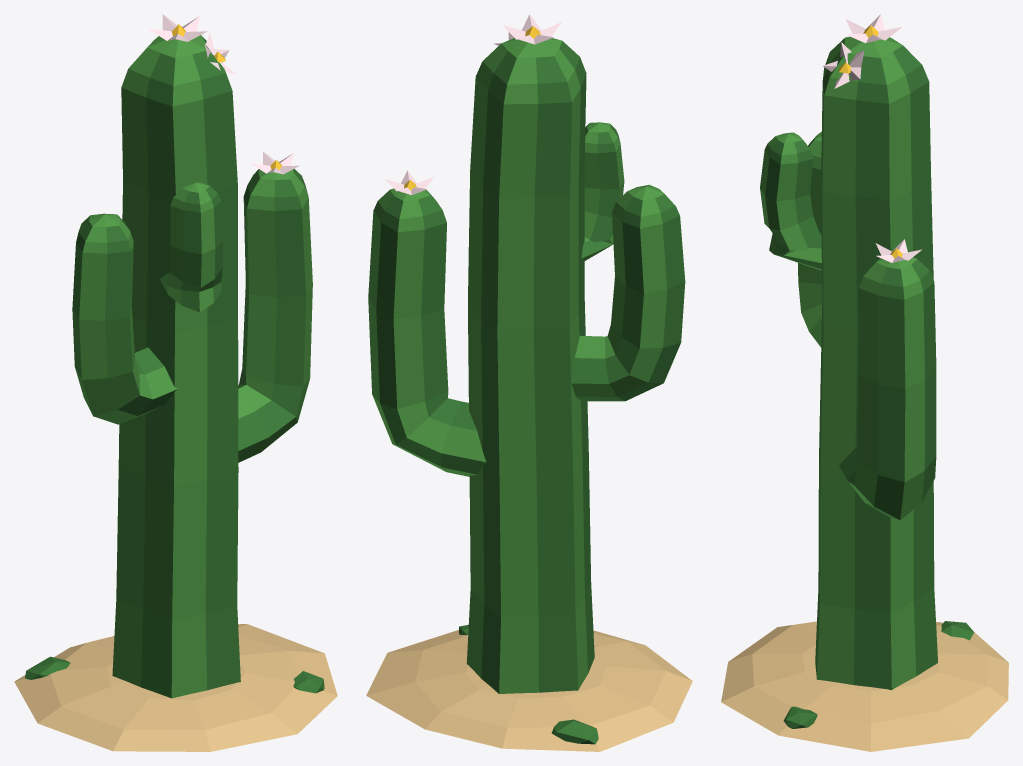
File: saguaro_cactus.glb
3 renders of one model, left to right at view 1: azimuth 30°, elevation 25°; view 2: azimuth 150°, elevation 25°; view 3: azimuth 270°, elevation 25°, orthographic.
Visible parts, largest first — view 1: saguaro_cactus; view 2: saguaro_cactus; view 3: saguaro_cactus.
Boxes of the visible parts, box(x1,y1,x2,y2) form: saguaro_cactus: box(14, 14, 337, 751); saguaro_cactus: box(366, 14, 692, 751); saguaro_cactus: box(721, 14, 1008, 751).
Size of the model in its own units: 1.59 by 3.52 by 1.39.
